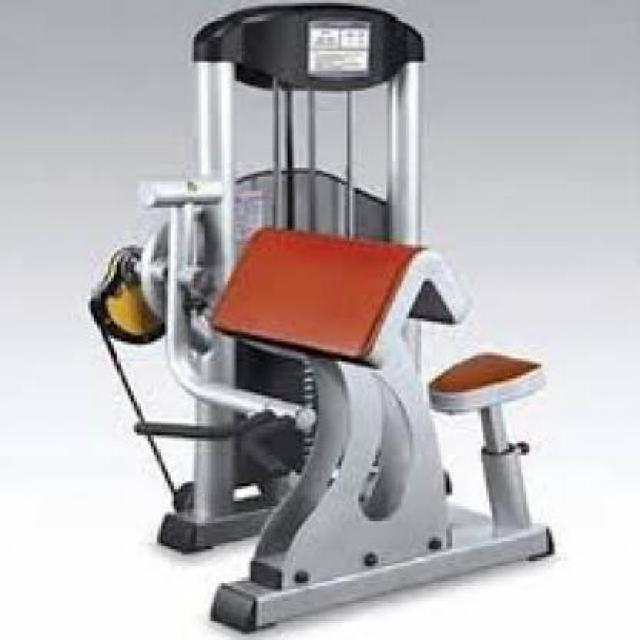arm curl machine: (91, 6, 557, 632)
